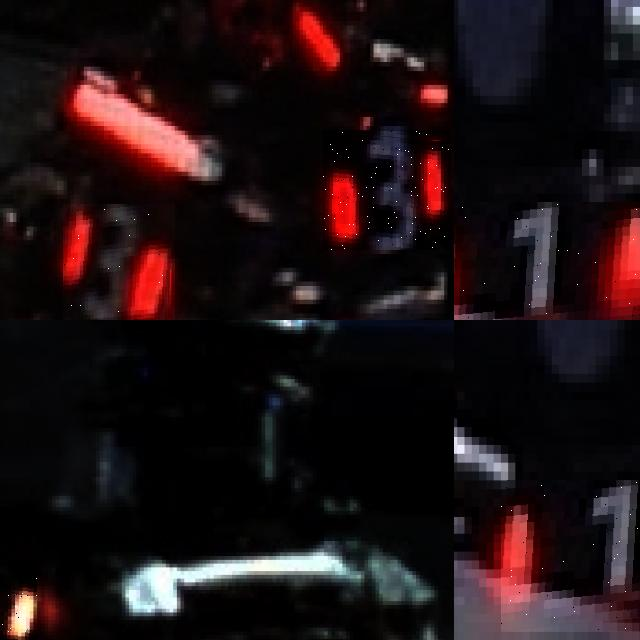R1: (454, 202, 640, 320), (501, 480, 640, 631)
R3: (323, 130, 451, 250), (63, 203, 174, 320)
Rs: (0, 559, 37, 640)
